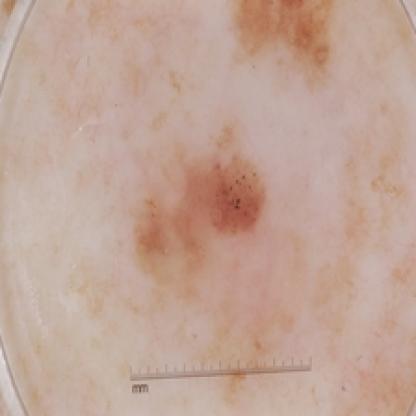Skin_Cancer-Malignant: (130, 126, 269, 282)
